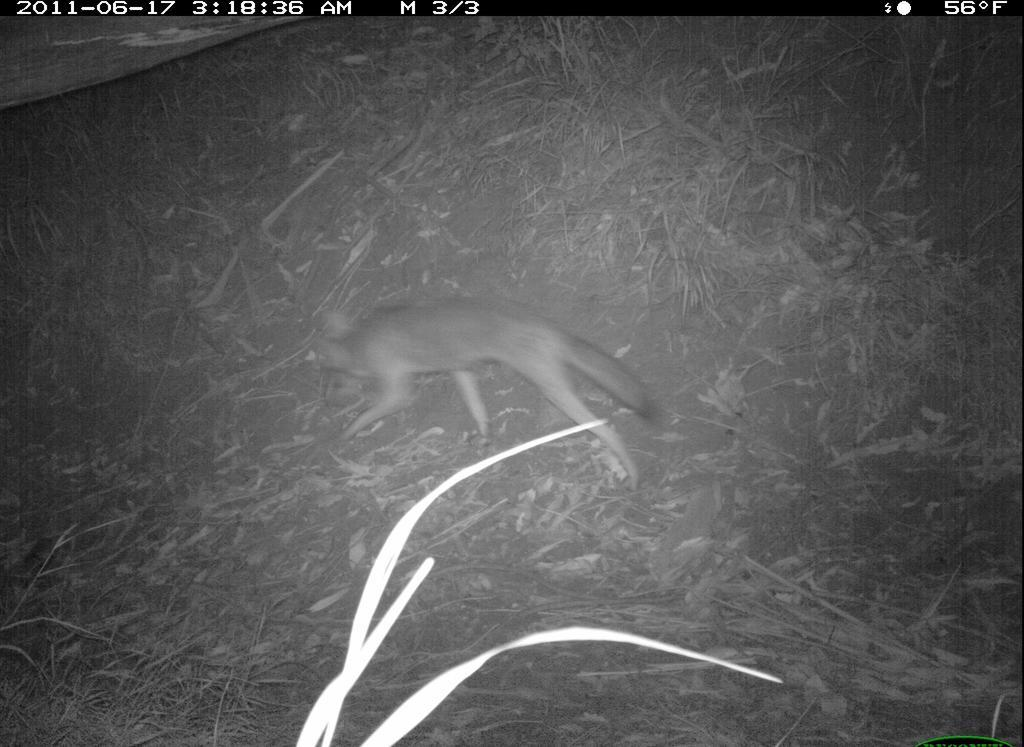coyote: (300, 291, 681, 504)
